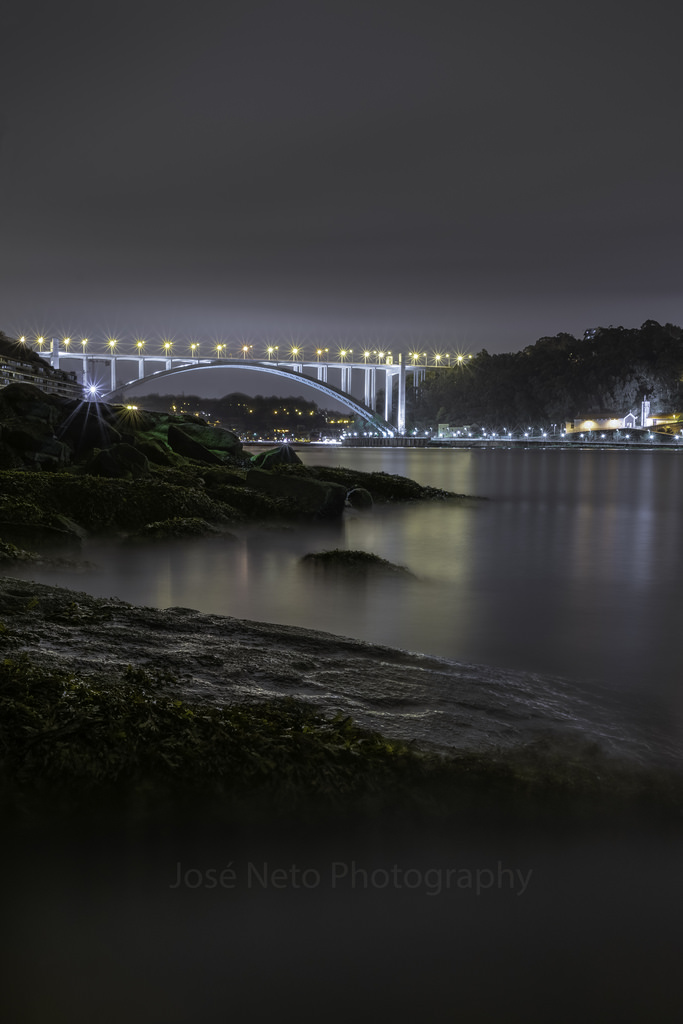arrabida: (29, 336, 458, 438)
